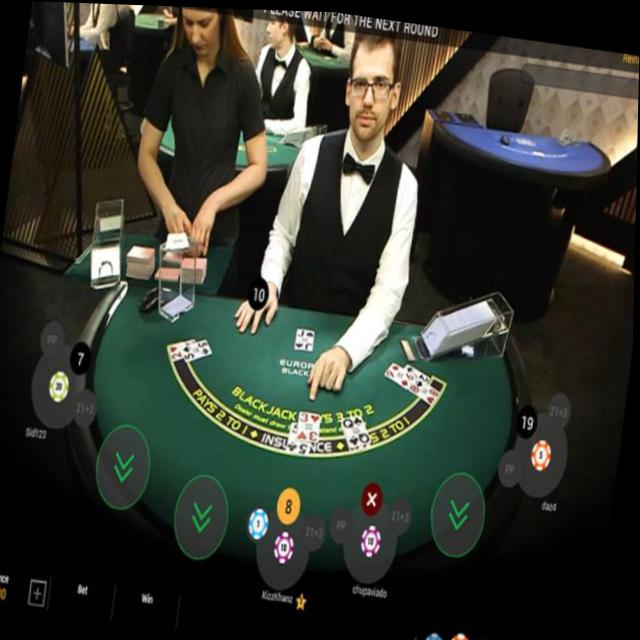Card-2: (169, 335, 198, 362), (405, 360, 431, 383)
Card-3: (298, 408, 322, 439)
Card-5: (287, 419, 312, 454), (182, 336, 212, 360)
Card-8: (409, 379, 440, 401)
Card-9: (385, 357, 416, 387)
Card-J: (296, 324, 316, 347)
Card-Q: (343, 411, 372, 446)
